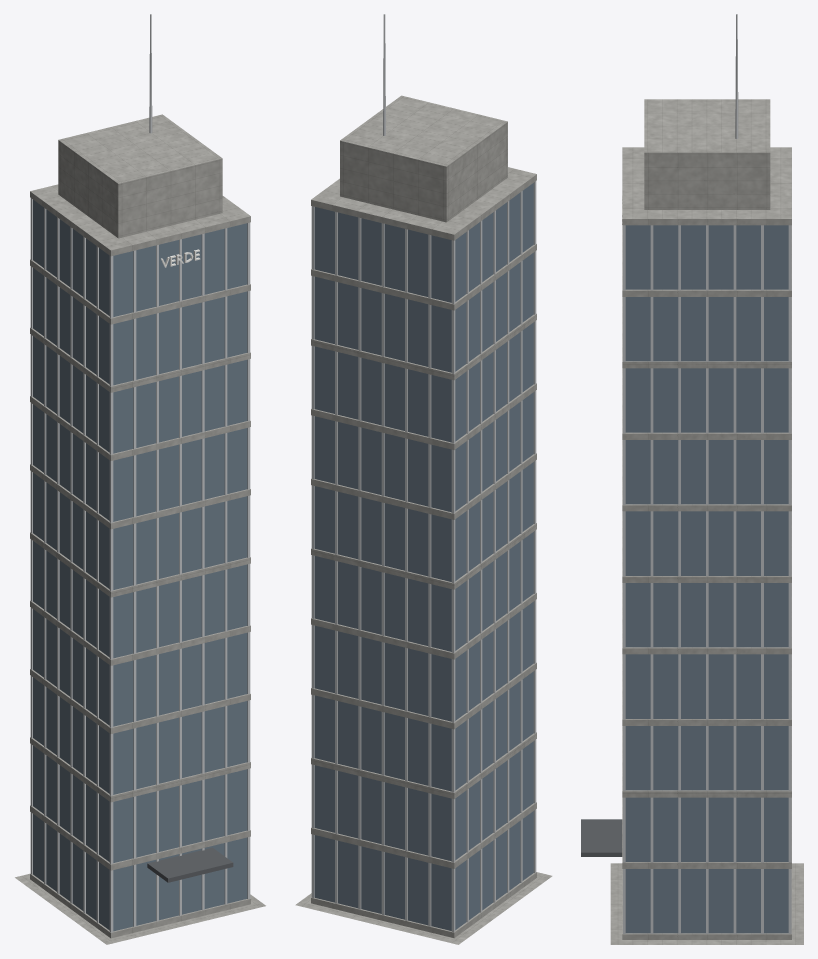
File: office_3.gltf
3 views of the same model, side by side, from view 1: azimuth 30°, elevation 25°; view 2: azimuth 150°, elevation 25°; view 3: azimuth 270°, elevation 25° (orthographic). The views are drawn at different scales.
Parts seen in each view (by area): view 1: office_3; view 2: office_3; view 3: office_3.
Part boxes in pixels (x1,y1,x2,y2): office_3: (15, 14, 265, 944); office_3: (295, 14, 552, 944); office_3: (581, 14, 803, 944).
Bounding box in the file's own units: 1.96 × 10.1 × 2.26.
5 materials, 1 textured.
